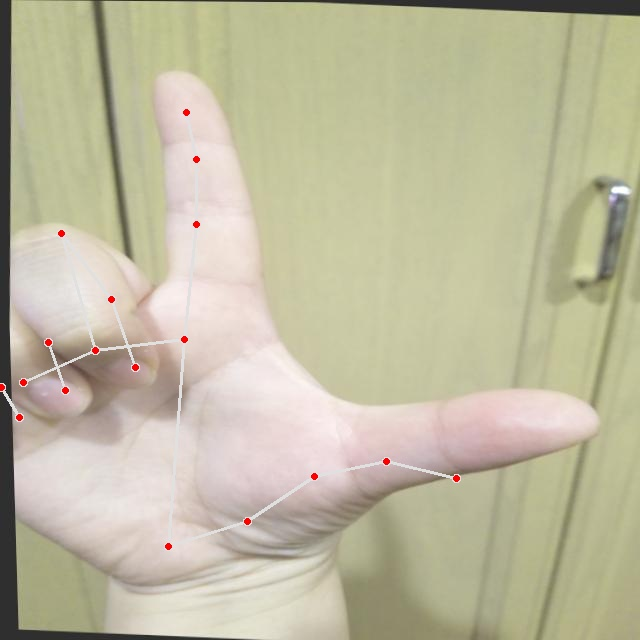L: (1, 55, 629, 623)
